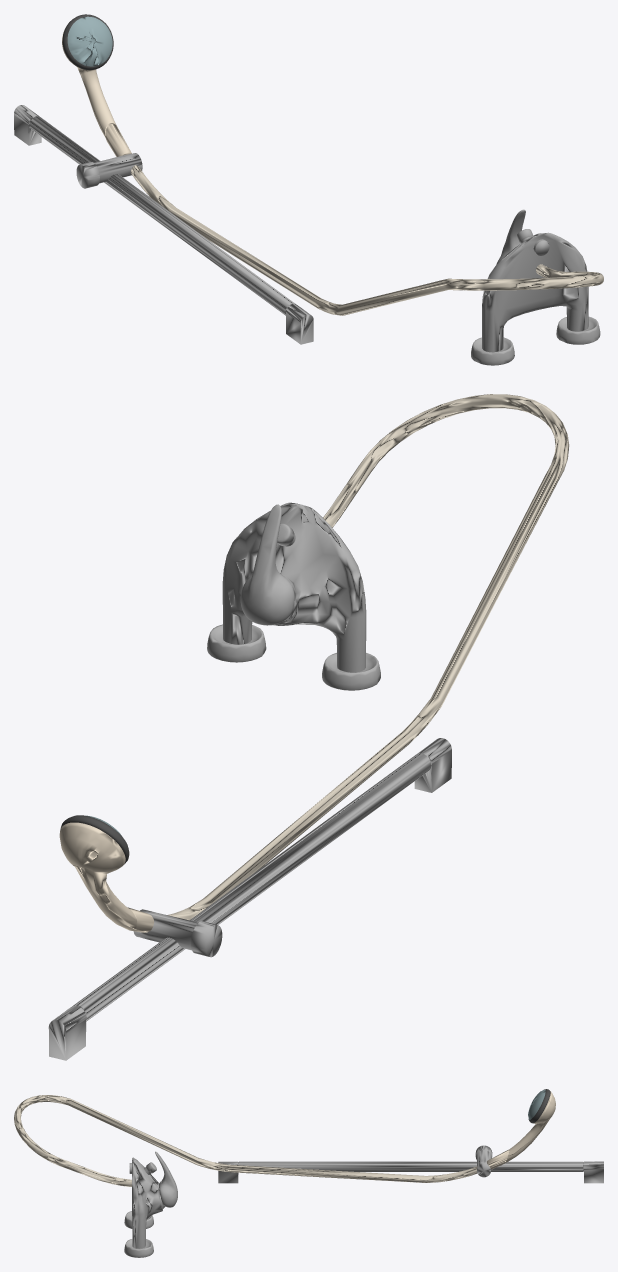
The model's file is Duscharmatur.dae.
3 views of the same model, one above another, from view 1: azimuth 30°, elevation 25°; view 2: azimuth 150°, elevation 25°; view 3: azimuth 270°, elevation 25° (orthographic). The views are drawn at different scales.
Parts seen in each view (by area): view 1: Polygon; view 2: Polygon; view 3: Polygon.
Part boxes in pixels (box(x1,y1,x2,y2)): Polygon: box(14, 14, 603, 365); Polygon: box(48, 394, 569, 1060); Polygon: box(14, 1089, 603, 1257).
Bounding box in the file's own units: 1.19 × 3.51 × 0.6782.
